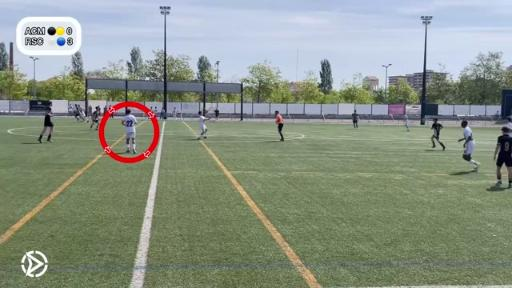highlight_overlay: (98, 99, 160, 163)
